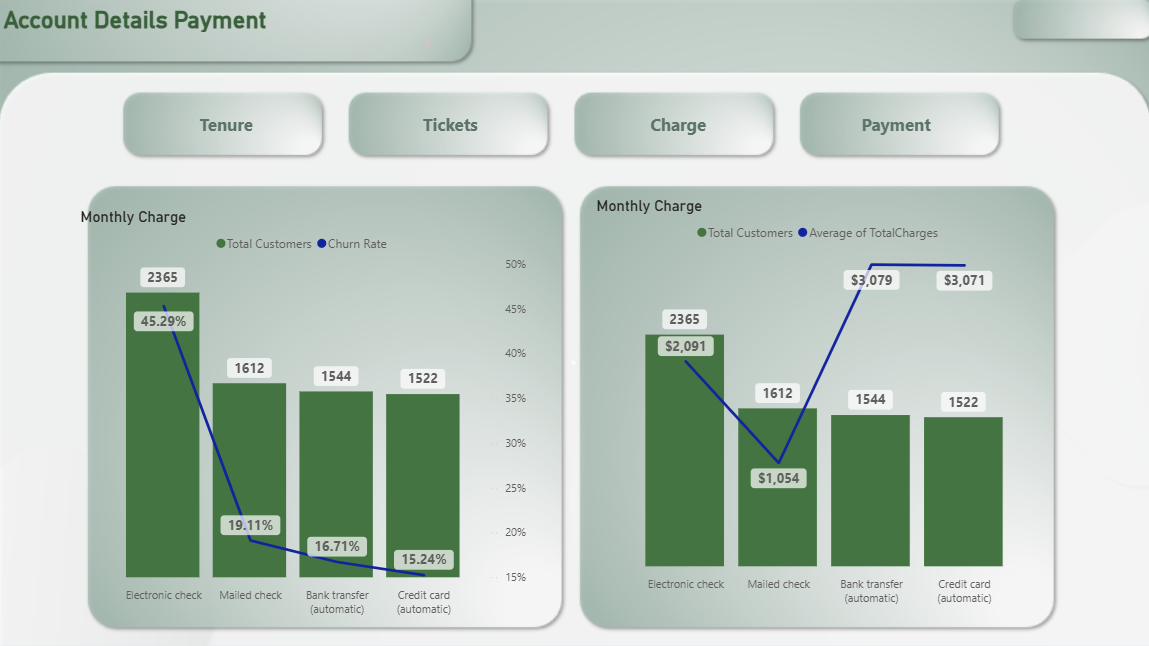

This screenshot's page, from the dashboard's own definition file:
{"tool":"powerbi","page":{"name":"Account Details Payment","canvas":[1280,720],"ordinal":4},"visuals":[{"type":"textbox","title":"Account Details Payment","box":[0,7.1,484.8,52.4],"z":0},{"type":"actionButton","box":[416.3,114.9,169.3,48.4],"z":3000},{"type":"actionButton","box":[670.2,114.9,169.3,48.4],"z":4000},{"type":"actionButton","box":[912.1,114.9,169.3,48.4],"z":5000},{"type":"actionButton","box":[168.3,114.9,169.3,48.4],"z":6000},{"type":"lineClusteredColumnComboChart","title":"Monthly Charge","fields":{"Category":["01 Churn-Dataset.PaymentMethod"],"Y":["KPIS Measures.Total Customers"],"Y2":["Avg(01 Churn-Dataset.TotalCharges)"]},"box":[658.3,220,505,461.7],"z":6001},{"type":"lineClusteredColumnComboChart","title":"Monthly Charge","fields":{"Category":["01 Churn-Dataset.PaymentMethod"],"Y":["KPIS Measures.Total Customers"],"Y2":["KPIS Measures.Churn Rate"]},"box":[85,231.7,505,461.7],"z":6002}]}

Visuals, with their boxes in screenshot pixels (x1, y1, x2, y2), scaled from the page's 1280x720 canvas onto the 1149x646 screenshot:
"Account Details Payment" textbox: [0, 6, 435, 53]
actionButton: [374, 103, 526, 147]
actionButton: [602, 103, 754, 147]
actionButton: [819, 103, 971, 147]
actionButton: [151, 103, 303, 147]
"Monthly Charge" lineClusteredColumnComboChart: [591, 197, 1044, 612]
"Monthly Charge" lineClusteredColumnComboChart: [76, 208, 530, 622]
